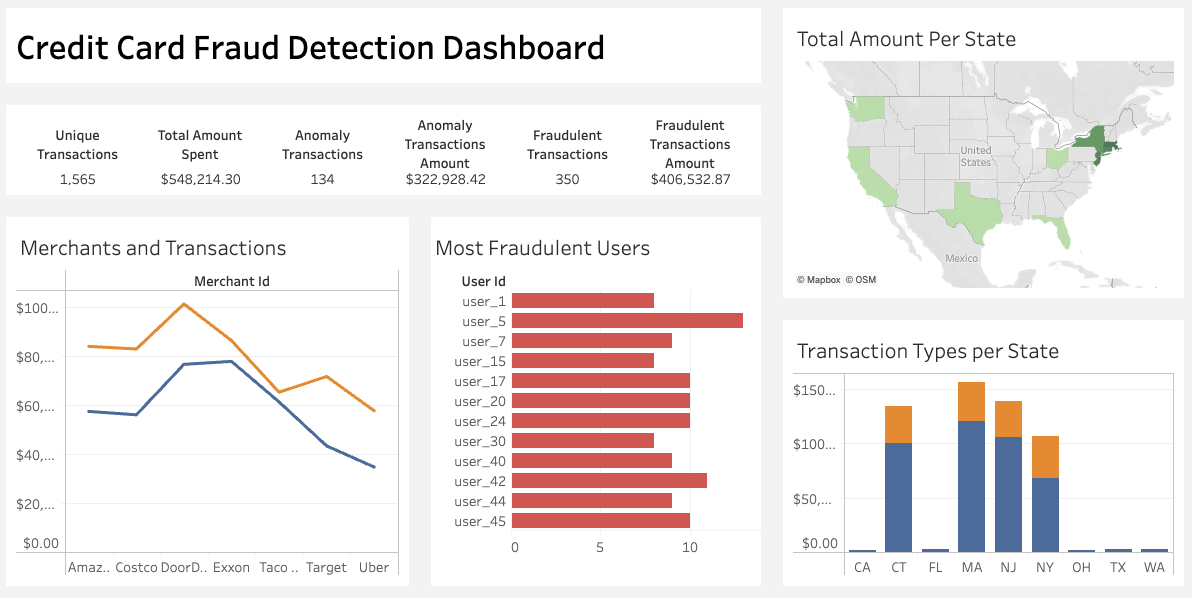

The dashboard page shown, as its layout file describes it:
{"tool":"tableau","page":{"name":"Credit Card Fraud Detection Dashboard","canvas":[1200,600],"ordinal":0},"visuals":[{"type":"text","box":[0,0,777,97]},{"type":"worksheet","title":"Total Amount Per State","mark":"Multipolygon","box":[777,0,423,312]},{"type":"worksheet","title":"KPIs","mark":"Automatic","box":[0,97,777,112]},{"type":"worksheet","title":"Merchants and Risky Transaction Amounts (2)","mark":"Line","rows":["amount","Calculation_1055554172080138"],"cols":["merchant_id"],"box":[0,209,425,391]},{"type":"worksheet","title":"Most Fraudelent Users","mark":"Automatic","rows":["user_id"],"cols":["Calculation_1055554171314185"],"box":[425,209,352,391]},{"type":"worksheet","title":"Transaction Types per State","mark":"Bar","rows":["amount","Calculation_1055554172080138"],"cols":["location"],"box":[777,312,423,288]}]}

Visuals, with their boxes in screenshot pixels (x1, y1, x2, y2), scaled from the page's 1200x600 canvas onto the 1192x598 screenshot:
text: x1=0 y1=0 x2=772 y2=97
"Total Amount Per State" worksheet (Multipolygon marks): x1=772 y1=0 x2=1191 y2=311
"KPIs" worksheet: x1=0 y1=97 x2=772 y2=208
"Merchants and Risky Transaction Amounts (2)" worksheet (Line marks): x1=0 y1=208 x2=422 y2=597
"Most Fraudelent Users" worksheet: x1=422 y1=208 x2=772 y2=597
"Transaction Types per State" worksheet (Bar marks): x1=772 y1=311 x2=1191 y2=597
